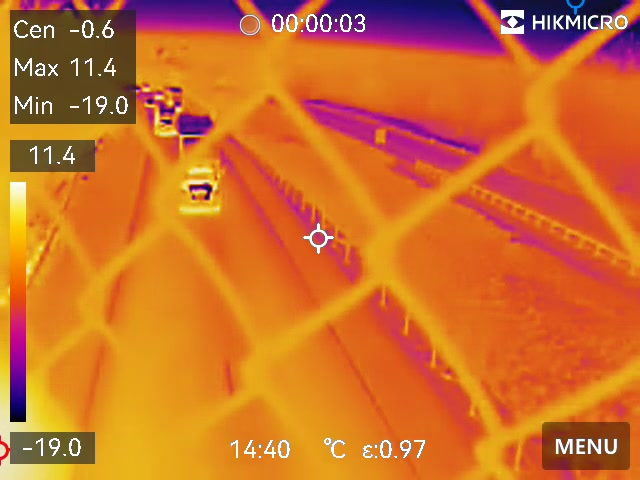heavyTruck: (171, 110, 226, 219), (151, 94, 176, 139)
